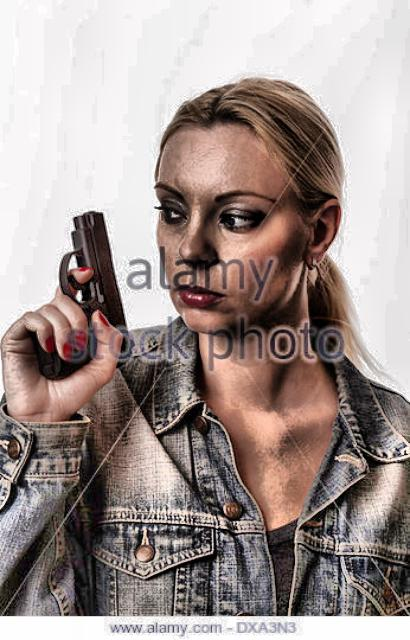pistol: (31, 208, 132, 380)
